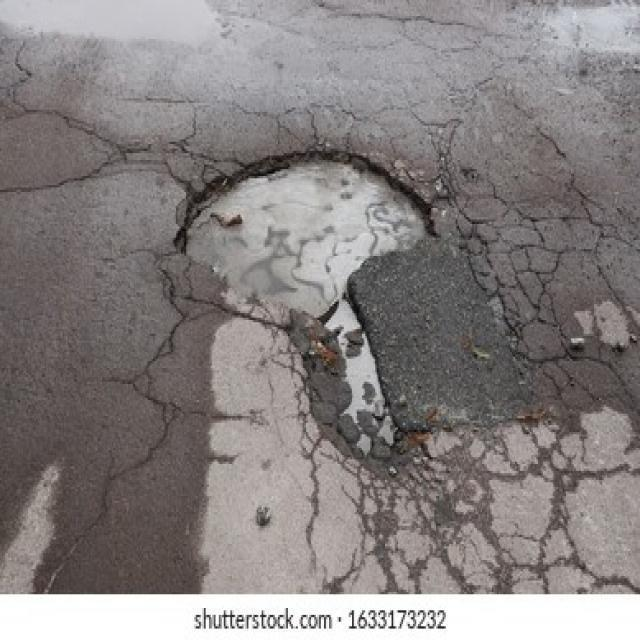Buraco: (167, 136, 448, 467)
